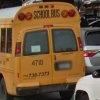Bus: (4, 1, 85, 95)
